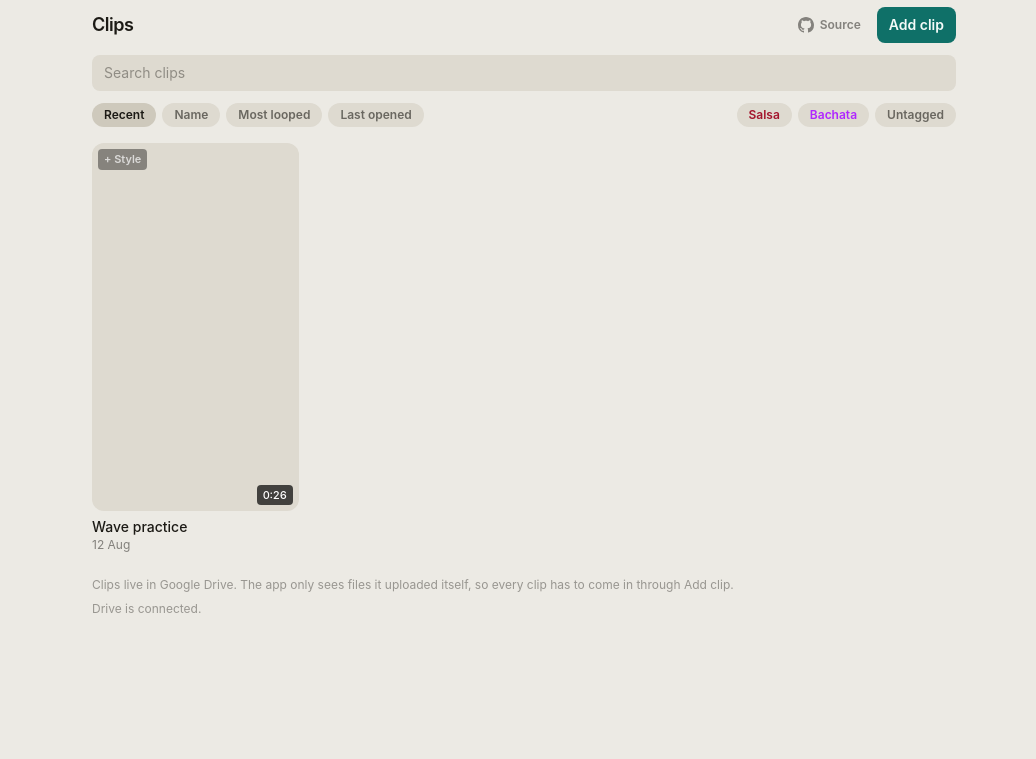
Test: the app mounted under a path of its own › opens a clip under that path
The width and height of the screenshot is (1036, 759).
Expected: the text "Wave practice" is shown, [92,518,187,535]
Step 1. Click the link "0:26 Wave practice 12 Aug" → click(196, 348), box [92,143,299,553]
(page scrolled)
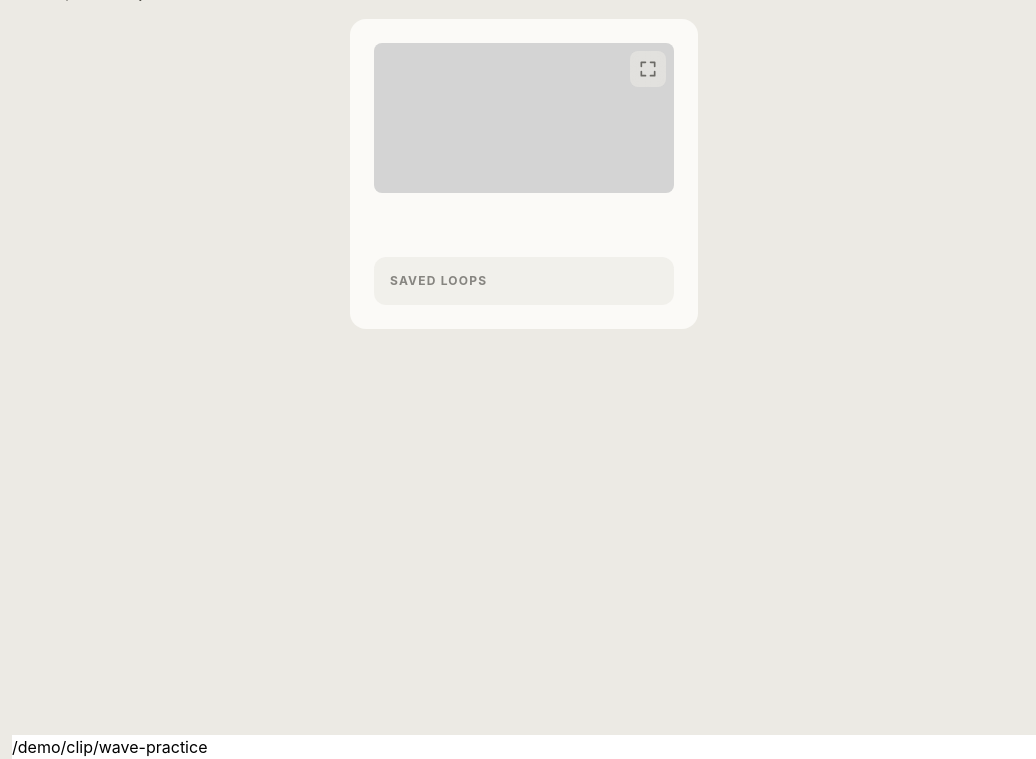
Expected: the text with test id "where" reads "/demo/clip/wave-practice", [12,737,208,757]
